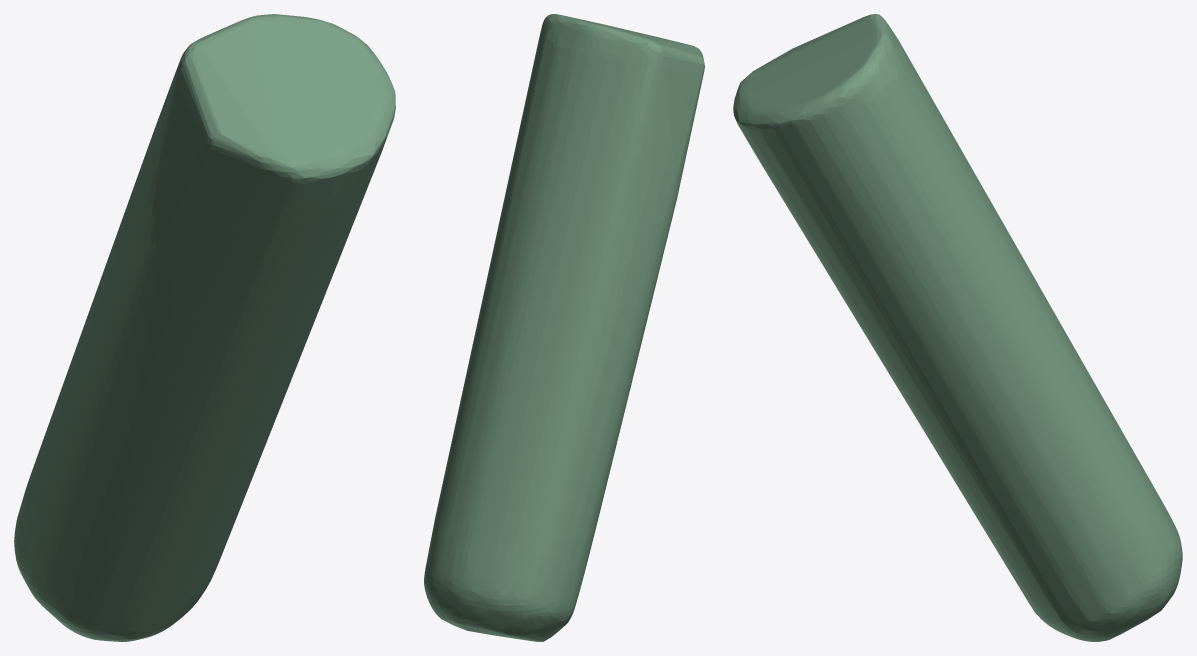
The model's file is 0_decomposed.obj.
3 views of the same model, side by side, from view 1: azimuth 30°, elevation 25°; view 2: azimuth 150°, elevation 25°; view 3: azimuth 270°, elevation 25° (orthographic). The views are drawn at different scales.
Visible parts, largest first — view 1: geometry_0; view 2: geometry_0; view 3: geometry_0.
Part boxes in pixels (left/top/right/bottom): geometry_0: left=14, top=14, right=395, bottom=641; geometry_0: left=424, top=14, right=704, bottom=641; geometry_0: left=733, top=14, right=1182, bottom=641.
Size of the model in its own units: 0.0514 by 0.174 by 0.1182.
